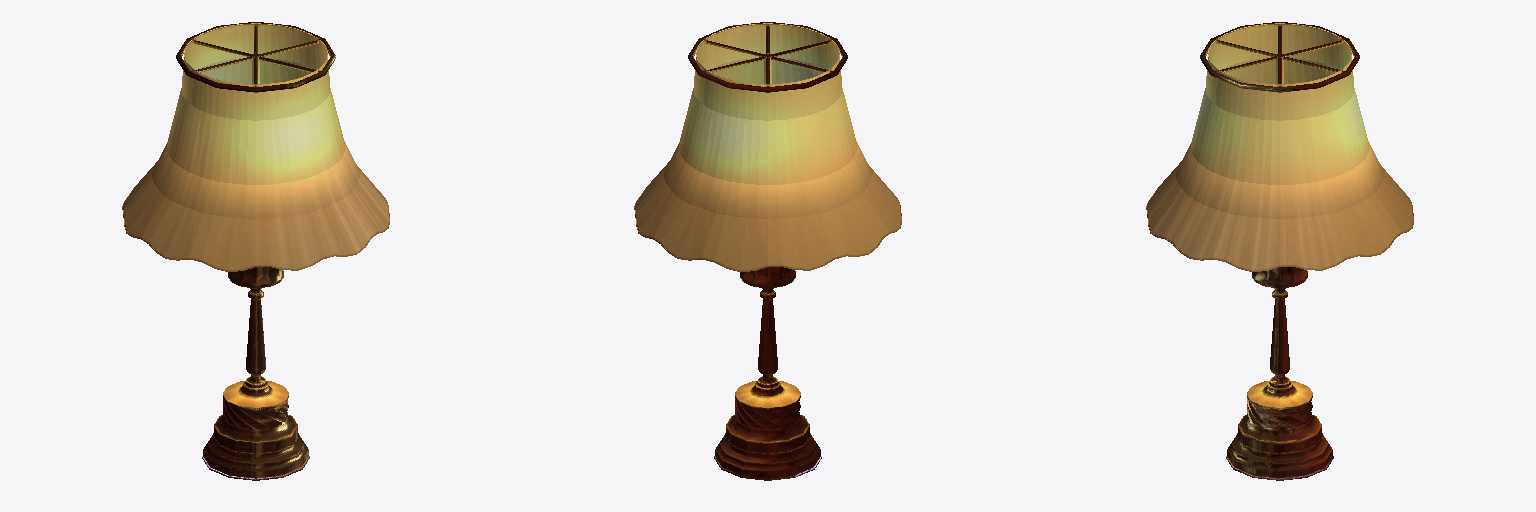
The picture shows the model from 3 angles: view 1: azimuth 30°, elevation 25°; view 2: azimuth 150°, elevation 25°; view 3: azimuth 270°, elevation 25°; orthographic projection.
Parts seen in each view (by area): view 1: nighttablelamp1Baked BedroomBakedTriExport; view 2: nighttablelamp1Baked BedroomBakedTriExport; view 3: nighttablelamp1Baked BedroomBakedTriExport.
Part boxes in pixels (left/top/right/bottom): nighttablelamp1Baked BedroomBakedTriExport: left=122, top=22, right=389, bottom=480; nighttablelamp1Baked BedroomBakedTriExport: left=634, top=22, right=901, bottom=480; nighttablelamp1Baked BedroomBakedTriExport: left=1146, top=22, right=1413, bottom=480.
Size of the model in its own units: 0.3761 by 0.6259 by 0.3761.
1 materials, 1 textured.